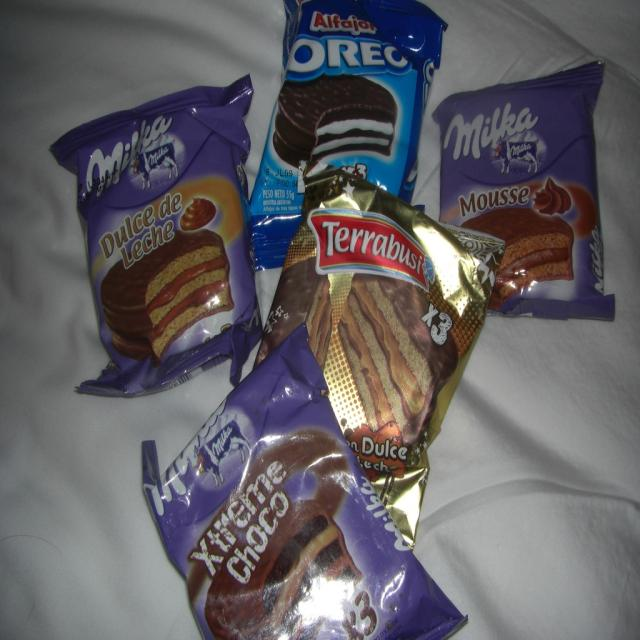milka: (149, 394, 258, 523), (80, 116, 181, 203), (445, 98, 545, 180)
